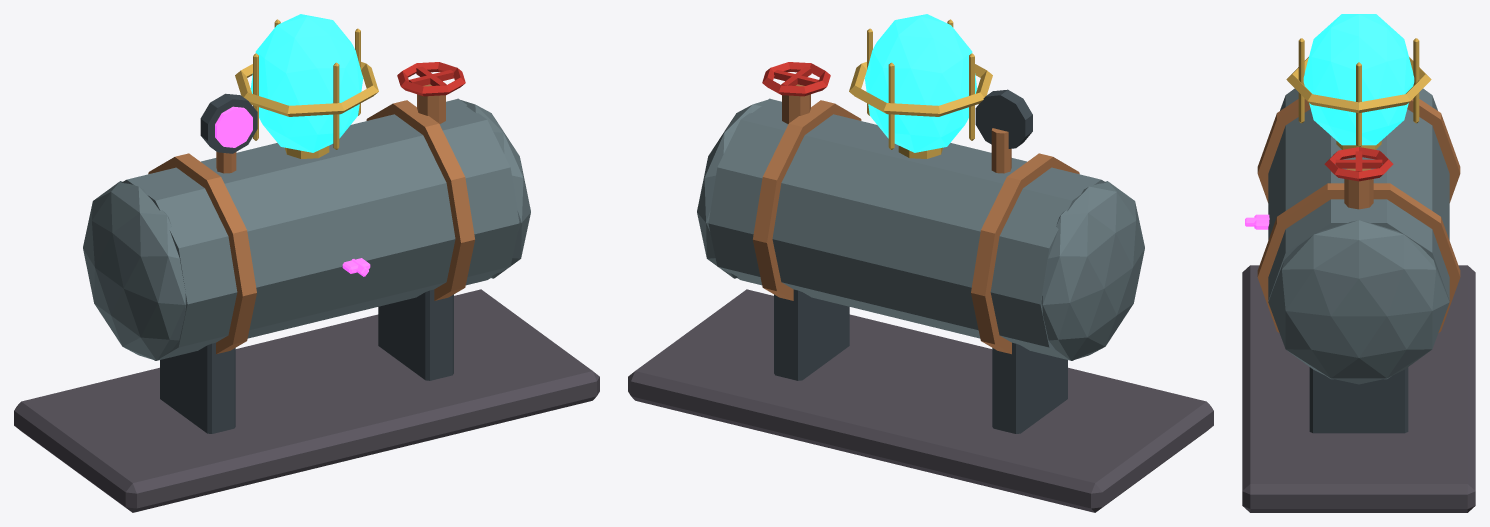
Rendered from alchemical_pressure_vessel.glb.
3 renders of one model, left to right at view 1: azimuth 30°, elevation 25°; view 2: azimuth 150°, elevation 25°; view 3: azimuth 270°, elevation 25°, orthographic. The views are drawn at different scales.
Visible parts, largest first — view 1: Vessel basalt plinth, Horizontal pressure vessel, Left vessel cap, Aether reservoir, Vessel leg.001, Vessel leg, Copper tank band, Copper tank band.001, Reservoir cage, Right vessel cap, Gauge casing, Valve wheel (+2 smaller); view 2: Vessel basalt plinth, Horizontal pressure vessel, Left vessel cap, Aether reservoir, Vessel leg.001, Vessel leg, Copper tank band, Copper tank band.001, Gauge casing, Reservoir cage, Right vessel cap, Valve wheel (+2 smaller); view 3: Vessel basalt plinth, Right vessel cap, Horizontal pressure vessel, Aether reservoir, Vessel leg.001, Copper tank band.001, Copper tank band, Reservoir cage, Valve wheel, Valve neck, Reservoir cage bar.001, Reservoir cage bar.003 (+2 smaller).
Part boxes in pixels (box(x1,y1,x2,y2)): Vessel basalt plinth: box(14, 289, 599, 512); Horizontal pressure vessel: box(121, 98, 519, 360); Left vessel cap: box(83, 181, 186, 360); Aether reservoir: box(250, 14, 363, 152); Vessel leg.001: box(378, 289, 453, 380); Vessel leg: box(160, 342, 235, 433); Copper tank band: box(148, 153, 256, 354); Copper tank band.001: box(366, 100, 475, 300); Reservoir cage: box(235, 62, 378, 116); Right vessel cap: box(461, 100, 530, 278); Gauge casing: box(200, 93, 257, 153); Valve wheel: box(397, 62, 465, 96); Vessel basalt plinth: box(628, 289, 1213, 512); Horizontal pressure vessel: box(708, 98, 1106, 360); Left vessel cap: box(1041, 181, 1144, 360); Aether reservoir: box(864, 14, 977, 152); Vessel leg.001: box(774, 289, 849, 380); Vessel leg: box(992, 342, 1067, 433); Copper tank band: box(971, 153, 1079, 354); Copper tank band.001: box(752, 100, 861, 300); Gauge casing: box(975, 89, 1032, 148); Reservoir cage: box(849, 62, 992, 116); Right vessel cap: box(697, 100, 766, 278); Valve wheel: box(762, 62, 830, 96); Vessel basalt plinth: box(1242, 265, 1475, 512); Right vessel cap: box(1268, 220, 1449, 384); Horizontal pressure vessel: box(1268, 89, 1449, 379); Aether reservoir: box(1303, 14, 1414, 145); Vessel leg.001: box(1309, 367, 1408, 433); Copper tank band.001: box(1257, 183, 1460, 332); Copper tank band: box(1257, 99, 1460, 202); Reservoir cage: box(1286, 57, 1431, 112); Valve wheel: box(1324, 147, 1393, 181); Valve neck: box(1344, 168, 1373, 209); Reservoir cage bar.001: box(1413, 38, 1419, 123); Reservoir cage bar.003: box(1298, 38, 1304, 123).
Size of the model in its own units: 4 by 3.22 by 1.75.
